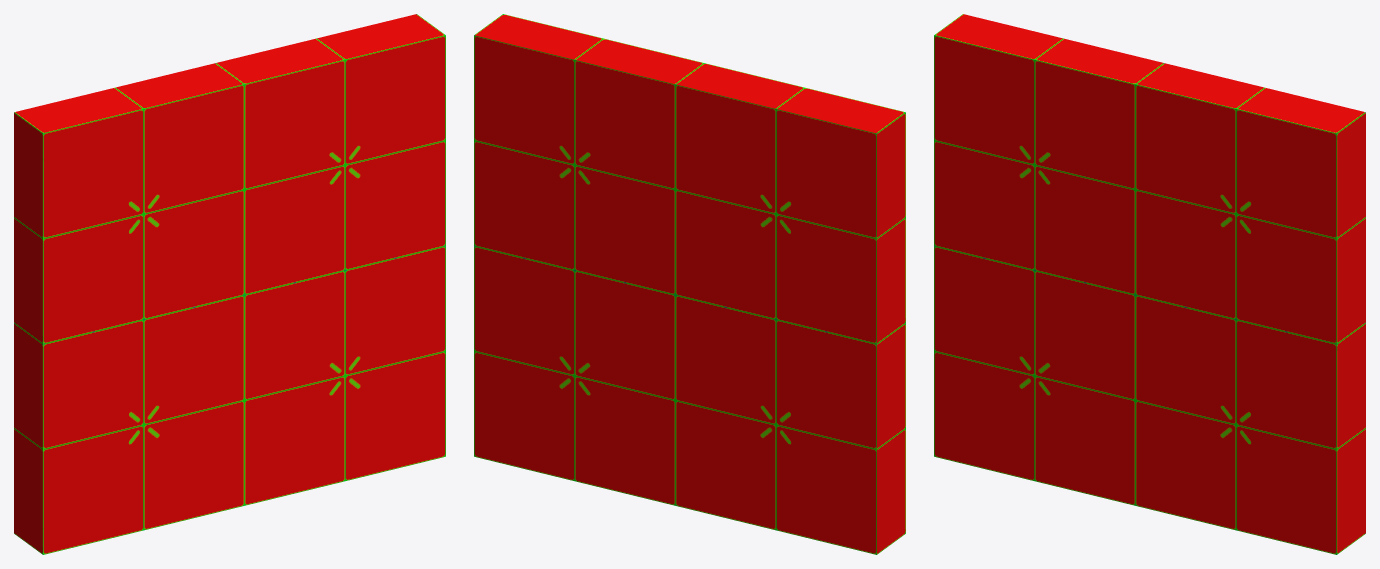
Rendered from SM_Bathroom_Wall_C.FBX.
3 views of the same model, side by side, from view 1: azimuth 30°, elevation 25°; view 2: azimuth 150°, elevation 25°; view 3: azimuth 330°, elevation 25° (orthographic).
Parts seen in each view (by area): view 1: SM_Bathroom_Wall_C; view 2: SM_Bathroom_Wall_C; view 3: SM_Bathroom_Wall_C.
Boxes of the visible parts, x1,y1,x2,y2 form: SM_Bathroom_Wall_C: (14,14,445,554); SM_Bathroom_Wall_C: (474,14,905,554); SM_Bathroom_Wall_C: (934,14,1365,554).
Bounding box in the file's own units: 400 × 400 × 50.
1 material, 1 textured.
